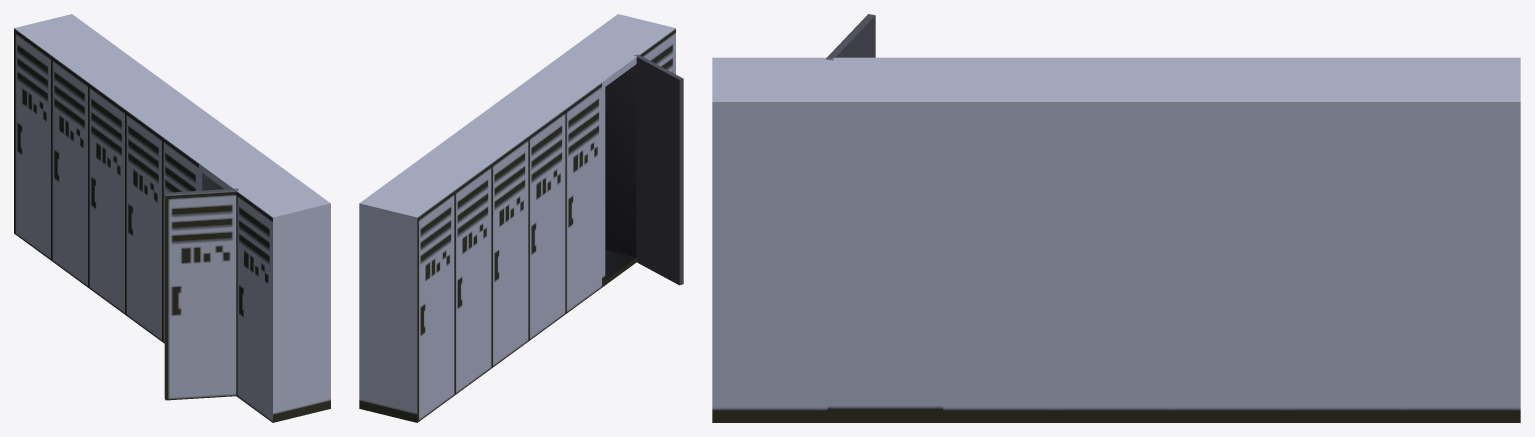
The model's file is lockers.fbx.
The picture shows the model from 3 angles, left to right: view 1: azimuth 30°, elevation 25°; view 2: azimuth 150°, elevation 25°; view 3: azimuth 270°, elevation 25°; orthographic projection. The views are drawn at different scales.
Parts seen in each view (by area): view 1: Куб.199; view 2: Куб.199; view 3: Куб.199.
Boxes of the visible parts, x1,y1,x2,y2 form: Куб.199: [14, 14, 330, 422]; Куб.199: [359, 14, 683, 422]; Куб.199: [712, 14, 1520, 422].
Bounding box in the file's own units: 110 × 187 × 426.
